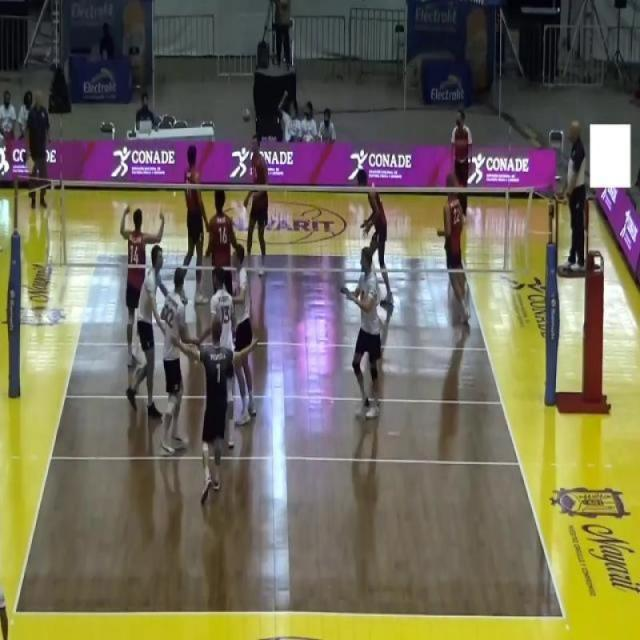volleyball: (242, 109, 250, 122)
